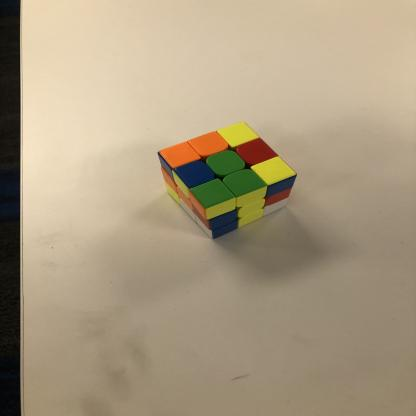UnsolvedCube: (156, 122, 303, 243)
